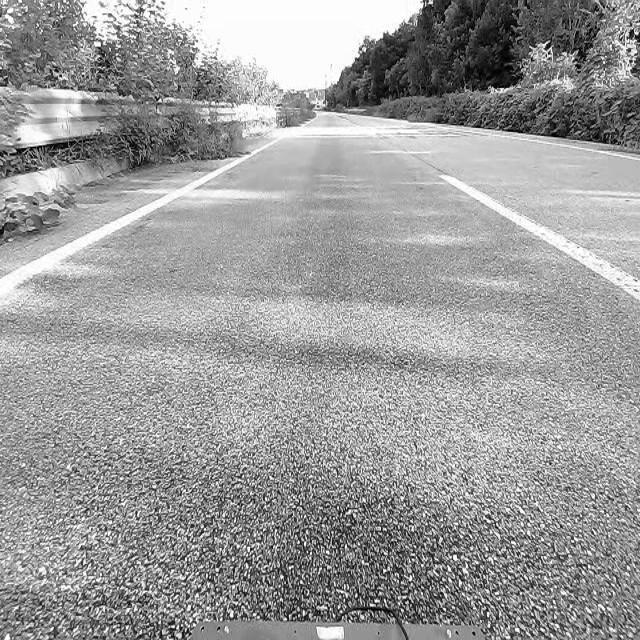Lane: (0, 135, 288, 309), (0, 141, 277, 310), (433, 167, 640, 338), (439, 174, 639, 301)
